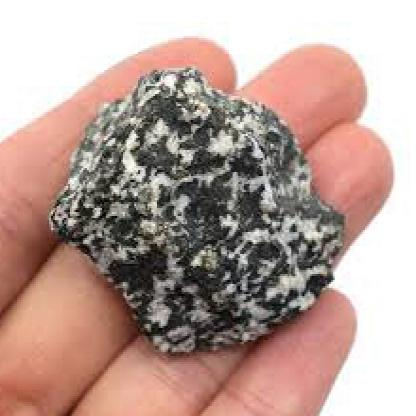Igneous_Diorite: (51, 56, 348, 356)
